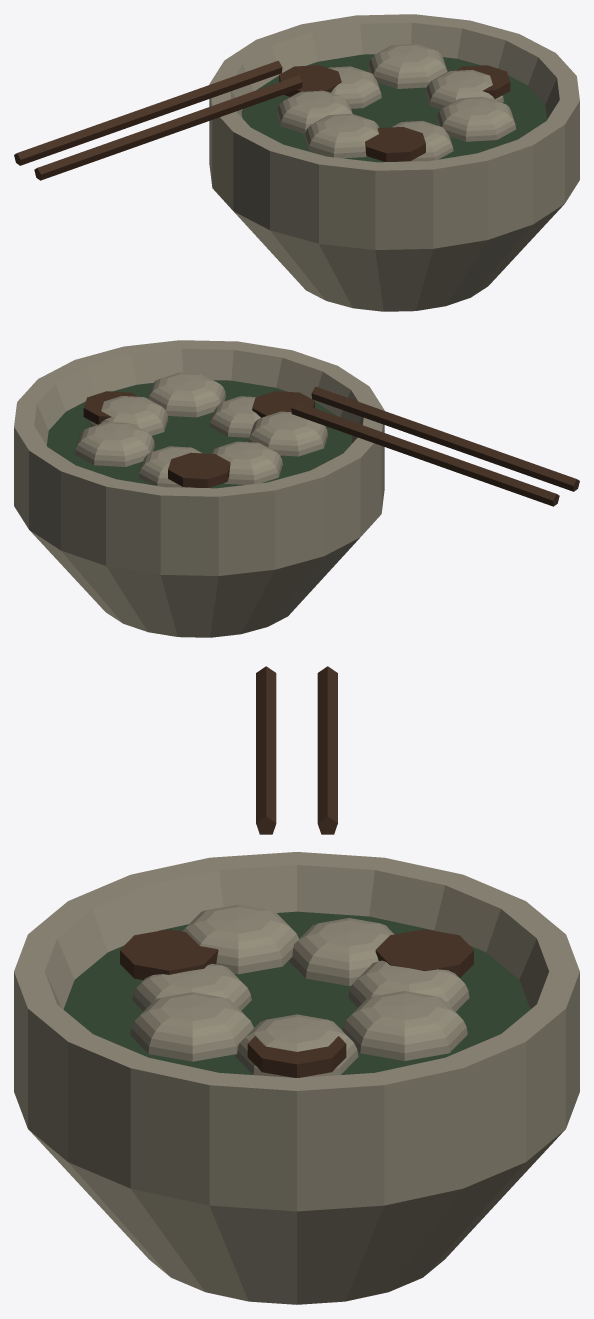
File: ramen.obj
The picture shows the model from 3 angles, top to bottom: view 1: azimuth 30°, elevation 25°; view 2: azimuth 150°, elevation 25°; view 3: azimuth 270°, elevation 25°; orthographic projection. The views are drawn at different scales.
Parts seen in each view (by area): view 1: ramen; view 2: ramen; view 3: ramen.
Boxes of the visible parts, x1,y1,x2,y2 form: ramen: (14,14,579,311); ramen: (14,340,579,637); ramen: (14,666,579,1304).
Bounding box in the file's own units: 3.02 × 1.23 × 1.84.
